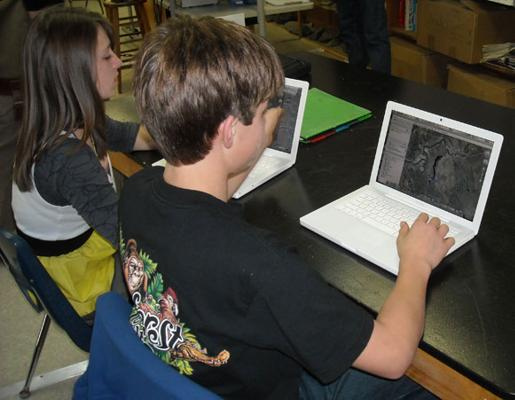person: (116, 15, 456, 400)
